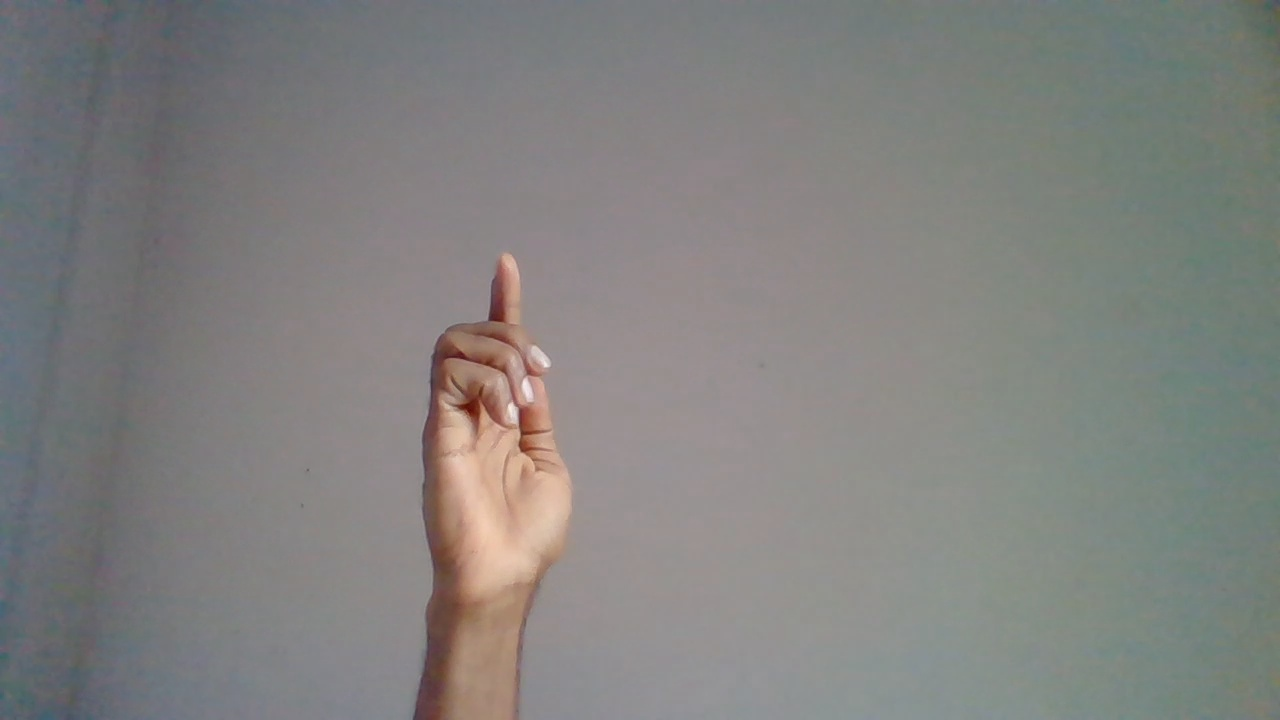qe: (420, 250, 576, 681)
